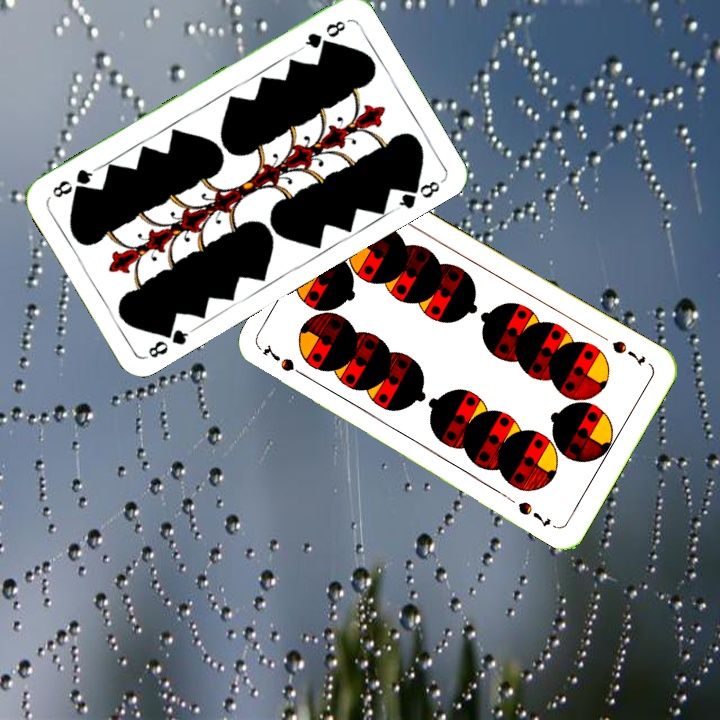G8: (143, 320, 196, 361), (301, 16, 349, 51)
S7: (259, 341, 311, 381), (608, 336, 649, 368)
